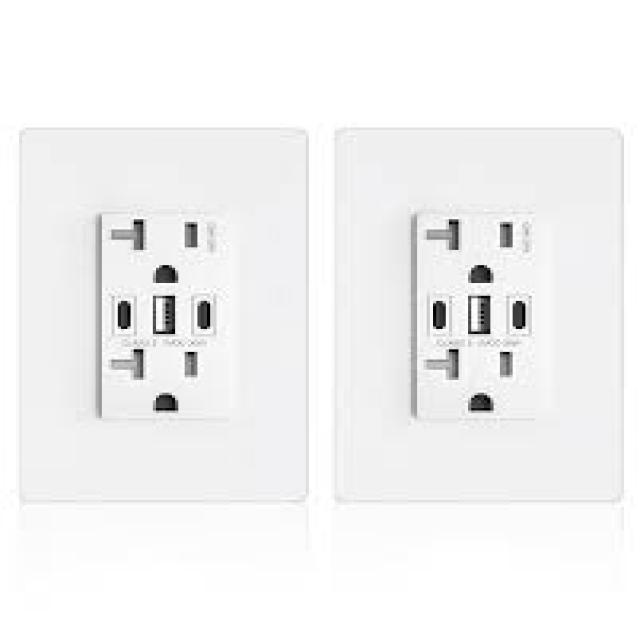type_b_tc: (92, 201, 232, 424), (99, 346, 228, 425), (102, 210, 223, 293)
